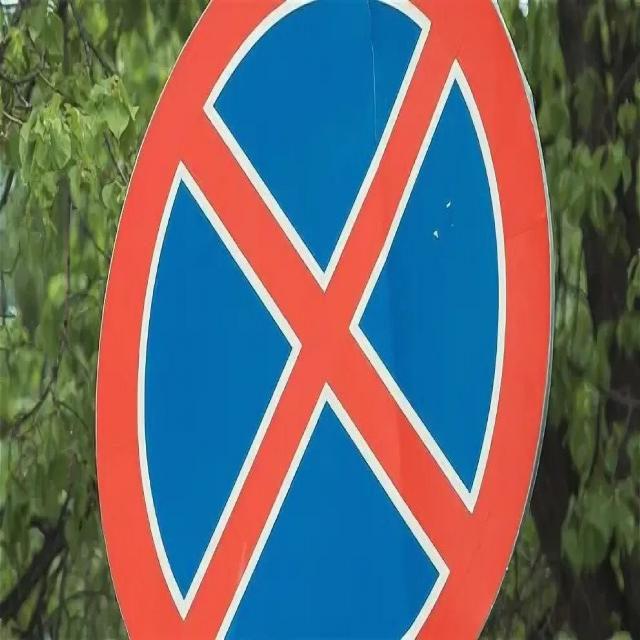no stopping: (91, 0, 559, 640)
